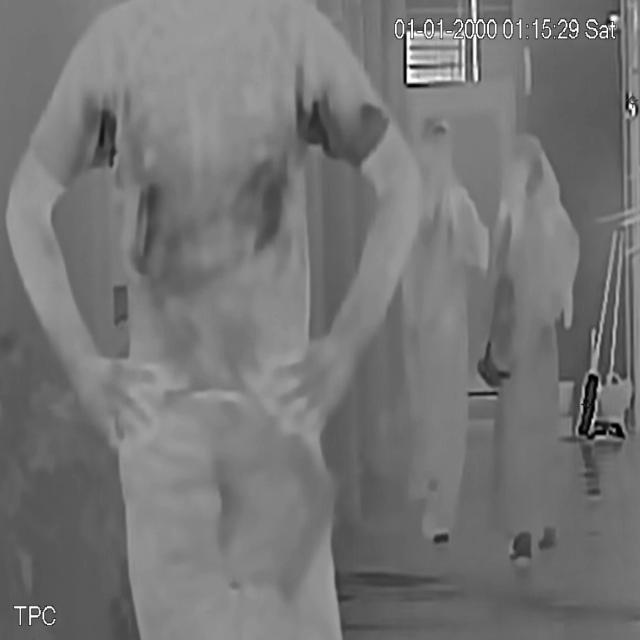Weapon: (256, 413, 344, 615)
